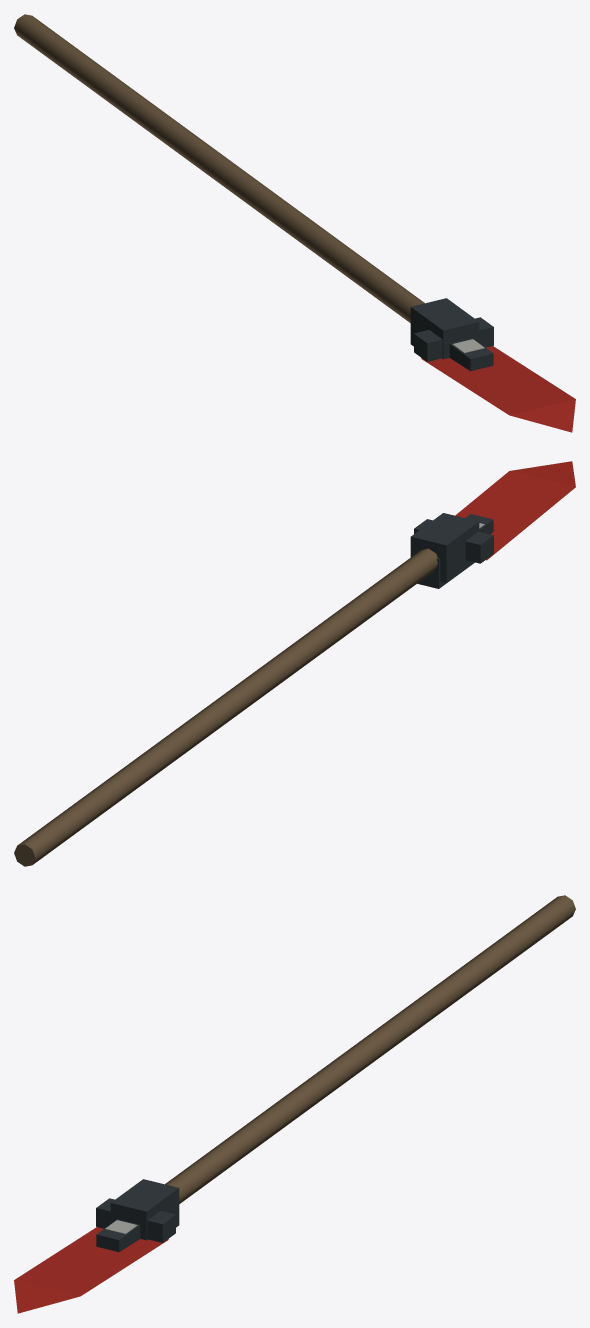
3 renders of one model, top to bottom at view 1: azimuth 30°, elevation 25°; view 2: azimuth 150°, elevation 25°; view 3: azimuth 330°, elevation 25°, orthographic.
Parts seen in each view (by area): view 1: weapon-spear-painted; view 2: weapon-spear-painted; view 3: weapon-spear-painted.
Boxes of the visible parts, x1=… form: weapon-spear-painted: x1=14, y1=14, x2=575, y2=432; weapon-spear-painted: x1=14, y1=461, x2=575, y2=866; weapon-spear-painted: x1=14, y1=895, x2=575, y2=1313.
Size of the model in its own units: 0.7767 by 0.4989 by 11.05.
